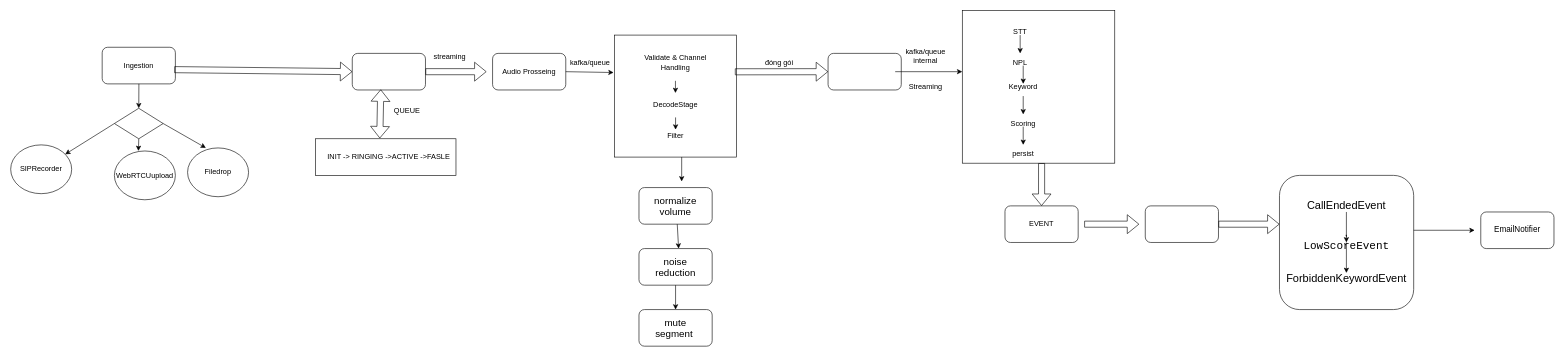
The diagram is 1565 pixels wide and 357 high, and some of its shapes have lost their labels. Here are the shapes that lost their labels. From the top down, the centre of each, then its label:
At point (388, 71): "session layer (State Pattern)".
At point (864, 71): "PIPELINE phân tích".
At point (138, 123): "Nhận luồng audio".
At point (1181, 223): "EventBus".
